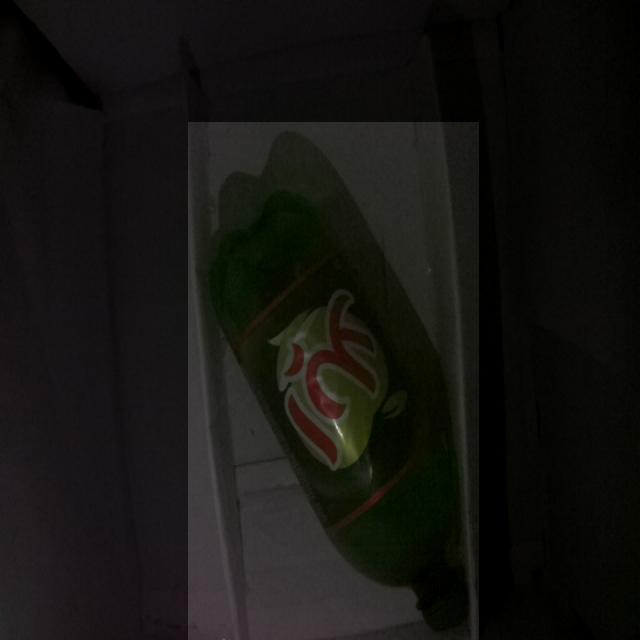bottle: (188, 122, 479, 640)
label: (255, 260, 437, 500)
